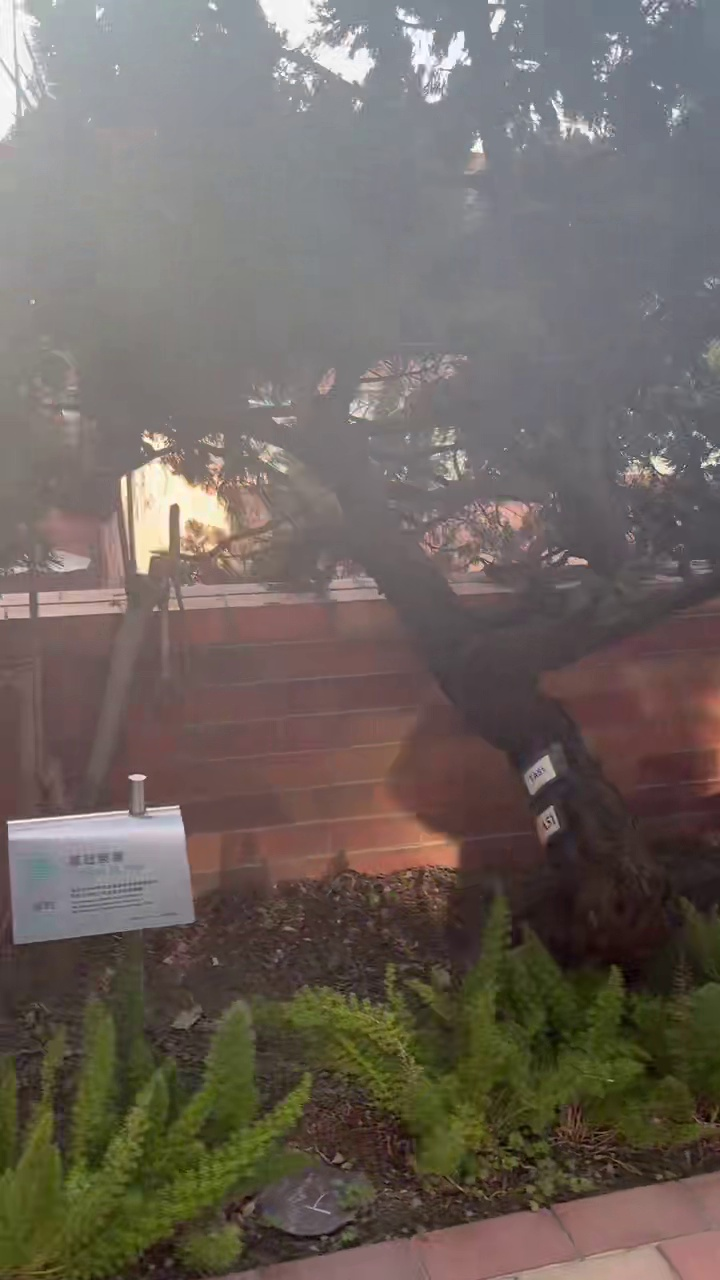Juniperus chinensis: (3, 0, 719, 950)
